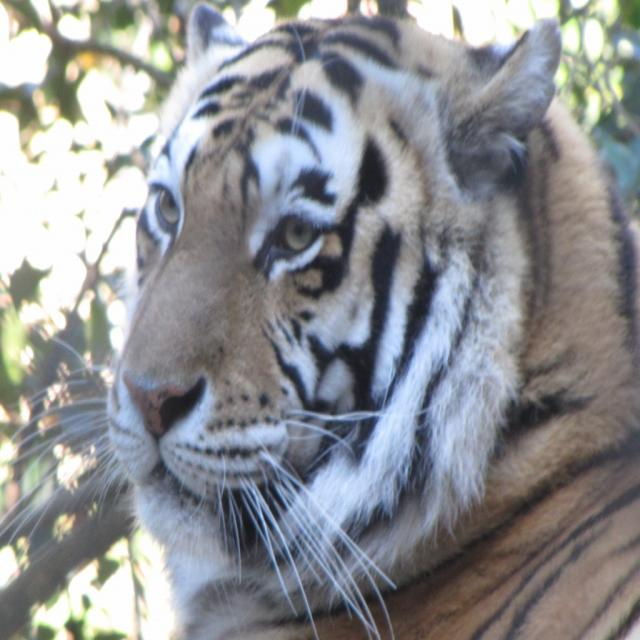Tiger: (0, 2, 640, 640)
